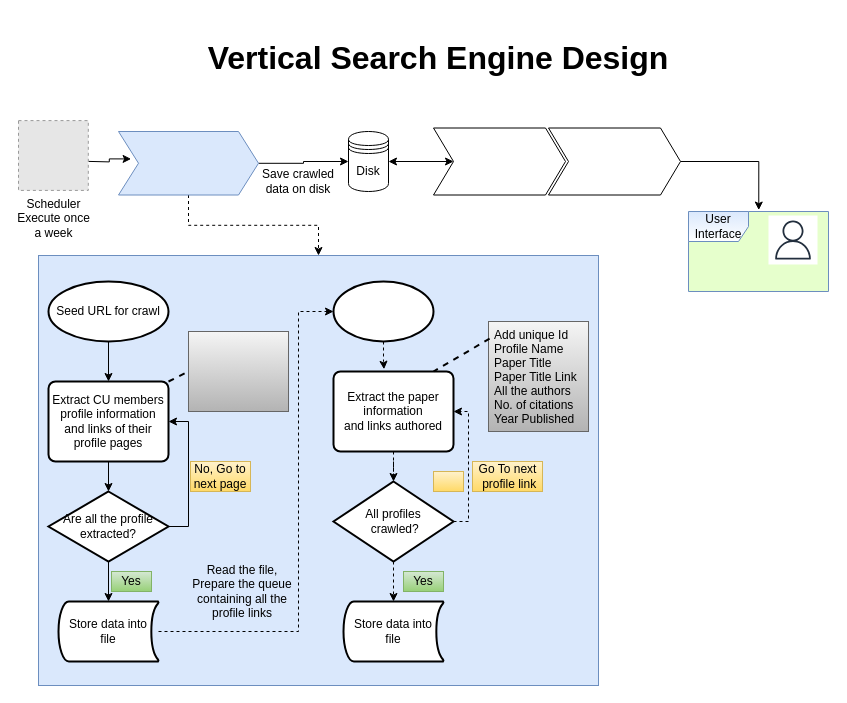
The diagram is 847 pixels wide and 703 high, and some of its shapes have lost their labels. Grey dashed boxes stand in for pictures. Each missing label, with the box of its shape:
First Profile Link: (332, 280, 434, 342)
Index Builder: (432, 127, 566, 195)
Name Profile Link Designation Interests Citations: (188, 330, 288, 412)
No: (432, 470, 464, 492)
Query Processor: (548, 127, 680, 195)
User: (768, 214, 818, 264)
Web Crawler: (118, 130, 258, 195)
